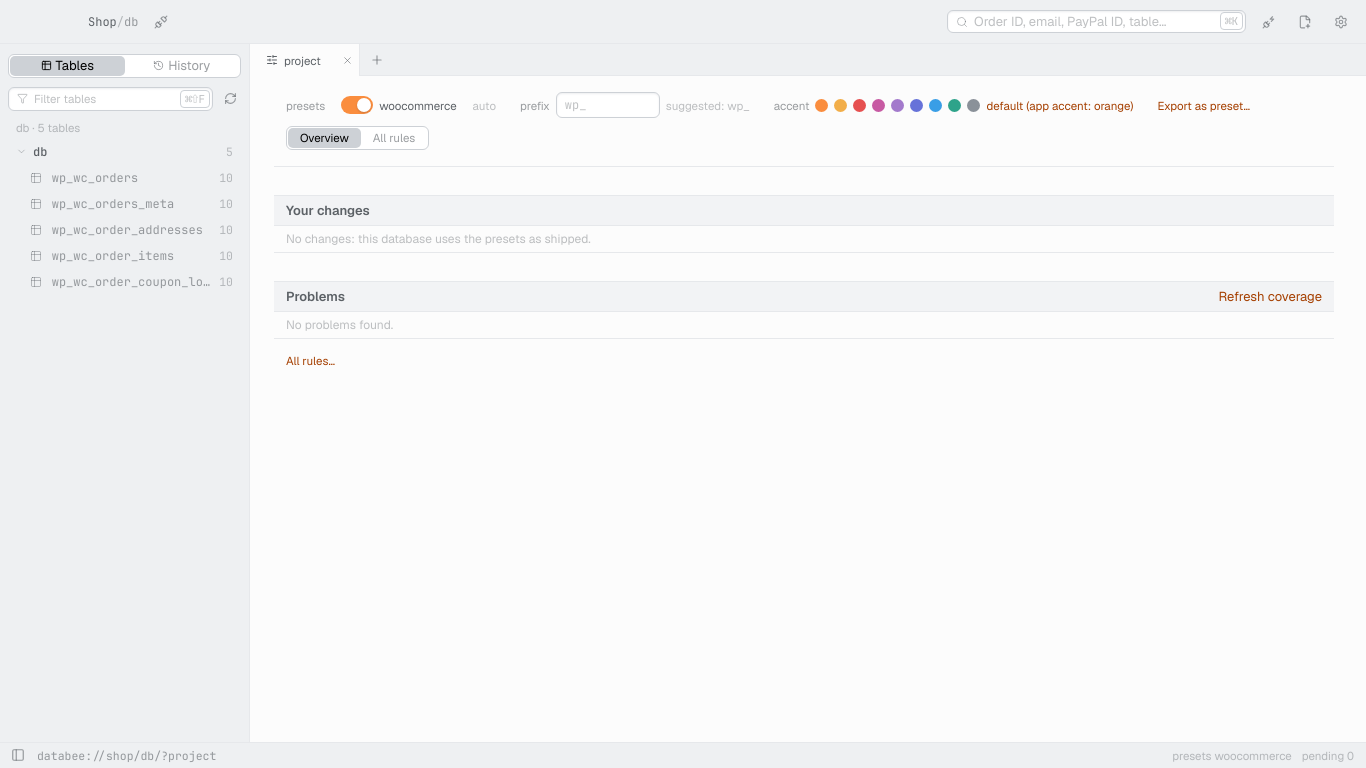
Test case: ProjectPanel › overview › switching sections › shows the listing from the segmented control
Expected: the element named "Databases" is shown, [16,144,233,290]
Expected: the element named "Presets and prefix" is shown, [274,76,1334,167]
Click the button "All rules" at x=394, y=138, box [361,128,427,148]
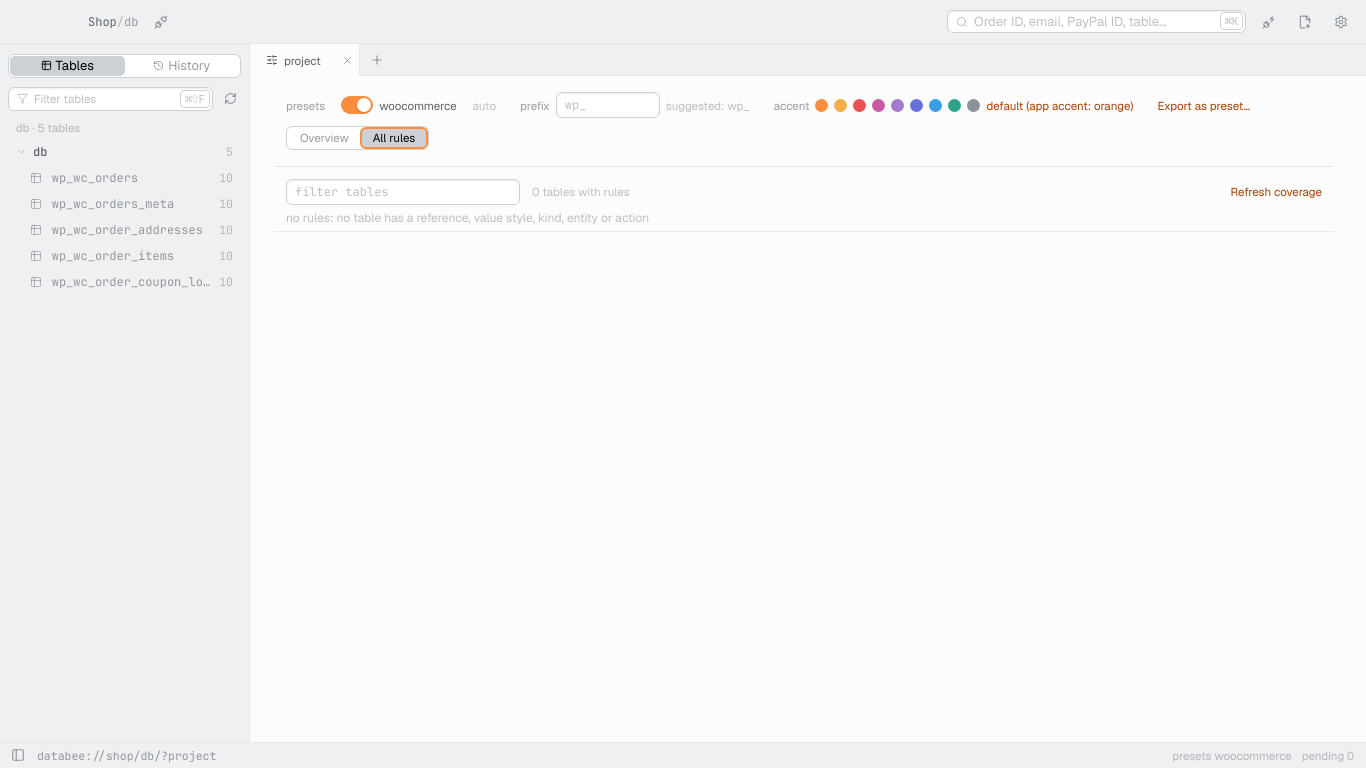
Expected: the search field labelled "filter tables" is shown, [286,179,520,205]
